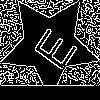E: (25, 20, 79, 73)
